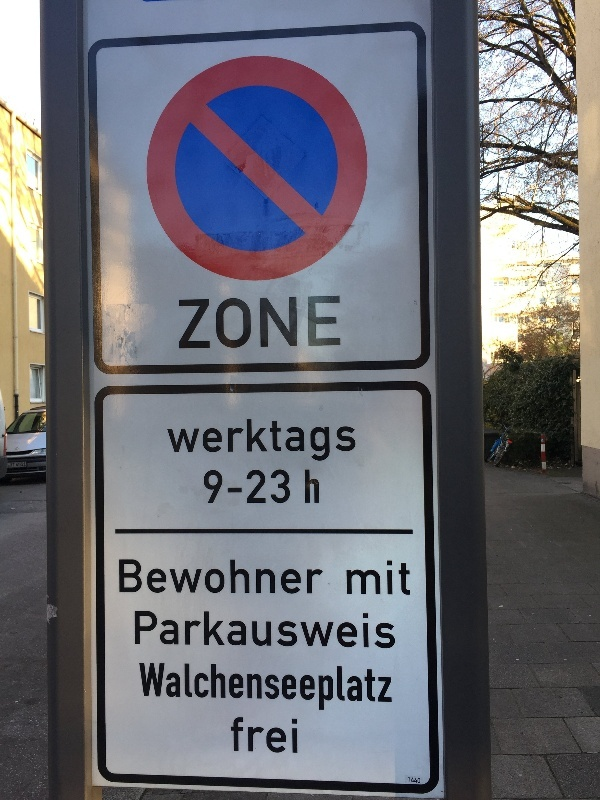text: (193, 294, 208, 351), (209, 294, 224, 351), (225, 294, 240, 351), (241, 294, 256, 351), (257, 294, 272, 351), (273, 294, 288, 351), (289, 294, 304, 351), (305, 294, 320, 351), (321, 294, 336, 351), (145, 663, 160, 713), (161, 663, 176, 713), (177, 663, 192, 713), (193, 663, 208, 713), (209, 663, 224, 713), (225, 663, 240, 713), (241, 663, 256, 713), (257, 663, 272, 713), (273, 663, 288, 713), (289, 663, 304, 713), (305, 663, 320, 713), (321, 663, 336, 713), (337, 663, 352, 713), (353, 663, 368, 713), (369, 663, 384, 713), (179, 294, 192, 351), (177, 417, 192, 465), (193, 417, 208, 465), (209, 417, 224, 465), (225, 417, 240, 465), (241, 417, 256, 465), (257, 417, 272, 465), (273, 417, 288, 465), (289, 417, 304, 465), (305, 417, 320, 465), (321, 417, 336, 465), (337, 417, 352, 465), (163, 417, 176, 465), (353, 560, 368, 599), (369, 560, 384, 599), (385, 560, 400, 599), (145, 612, 160, 651), (161, 612, 176, 651), (177, 612, 192, 651), (193, 612, 208, 651), (209, 612, 224, 651), (225, 612, 240, 651), (241, 612, 256, 651), (257, 612, 272, 651), (273, 612, 288, 651), (289, 612, 304, 651), (305, 612, 320, 651), (321, 612, 336, 651), (337, 612, 352, 651), (353, 612, 368, 651), (369, 612, 384, 651), (129, 560, 144, 597), (145, 560, 160, 597), (161, 560, 176, 597), (177, 560, 192, 597), (193, 560, 208, 597), (209, 560, 224, 597), (225, 560, 240, 597), (241, 560, 256, 597), (257, 560, 272, 597), (273, 560, 288, 597), (289, 560, 304, 597), (305, 560, 320, 597), (241, 719, 256, 755), (257, 719, 272, 755), (273, 719, 288, 755), (209, 469, 224, 504), (225, 469, 240, 504), (241, 469, 256, 504), (257, 469, 272, 504), (273, 469, 288, 504), (289, 469, 304, 504), (305, 469, 319, 504), (385, 612, 396, 651), (401, 560, 411, 599), (135, 612, 144, 651), (385, 663, 392, 713), (119, 560, 128, 597), (231, 719, 240, 755), (289, 719, 298, 755), (139, 663, 144, 713), (337, 294, 341, 351), (347, 560, 352, 599), (353, 417, 357, 465), (321, 560, 325, 597), (204, 469, 208, 504), (17, 461, 32, 467), (10, 462, 16, 467)
